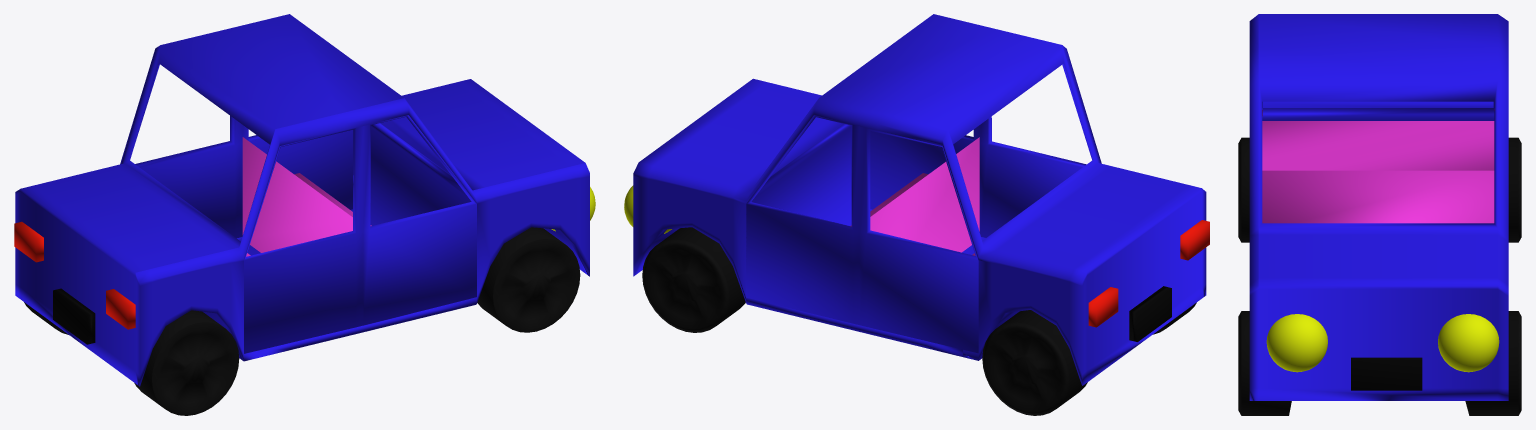
Rendered from car2.fbx.
3 renders of one model, left to right at view 1: azimuth 30°, elevation 25°; view 2: azimuth 150°, elevation 25°; view 3: azimuth 270°, elevation 25°, orthographic. The views are drawn at different scales.
Parts seen in each view (by area): view 1: body, frontwheel, backwheel, backnumber, backlight.001, backlight; view 2: body, frontwheel, backwheel, backnumber, backlight.001, backlight; view 3: body, frontwheel, frontlight, frontlight.001, backwheel, frontnumber.
Part boxes in pixels (left/top/right/bottom): body: left=15, top=14, right=589, bottom=386; frontwheel: left=477, top=227, right=580, bottom=332; backwheel: left=24, top=302, right=239, bottom=415; backnumber: left=53, top=288, right=95, bottom=344; backlight.001: left=14, top=221, right=43, bottom=262; backlight: left=106, top=289, right=135, bottom=329; body: left=633, top=14, right=1206, bottom=385; frontwheel: left=642, top=227, right=745, bottom=332; backwheel: left=982, top=302, right=1196, bottom=415; backnumber: left=1129, top=286, right=1171, bottom=341; backlight.001: left=1088, top=287, right=1118, bottom=327; backlight: left=1180, top=220, right=1209, bottom=260; body: left=1249, top=14, right=1508, bottom=400; frontwheel: left=1238, top=311, right=1521, bottom=415; frontlight: left=1438, top=314, right=1499, bottom=372; frontlight.001: left=1266, top=314, right=1327, bottom=372; backwheel: left=1238, top=137, right=1521, bottom=242; frontnumber: left=1351, top=357, right=1422, bottom=390.
Bounding box in the file's own units: 914 × 466 × 445.
